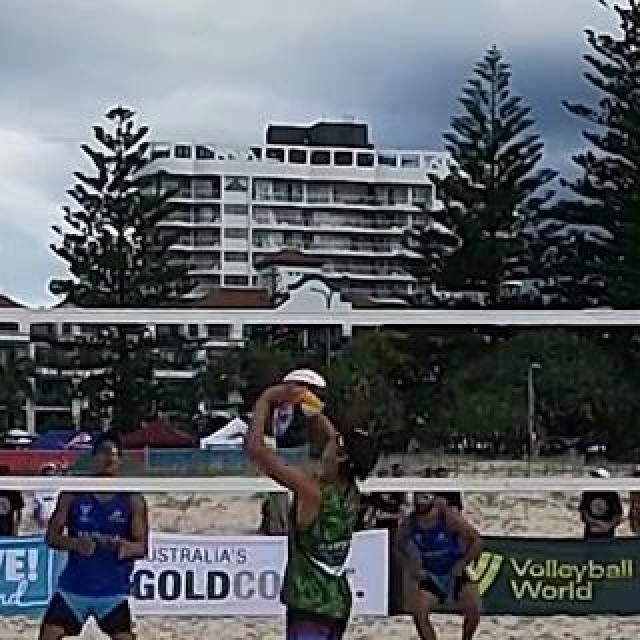volleyball: (281, 368, 327, 418)
